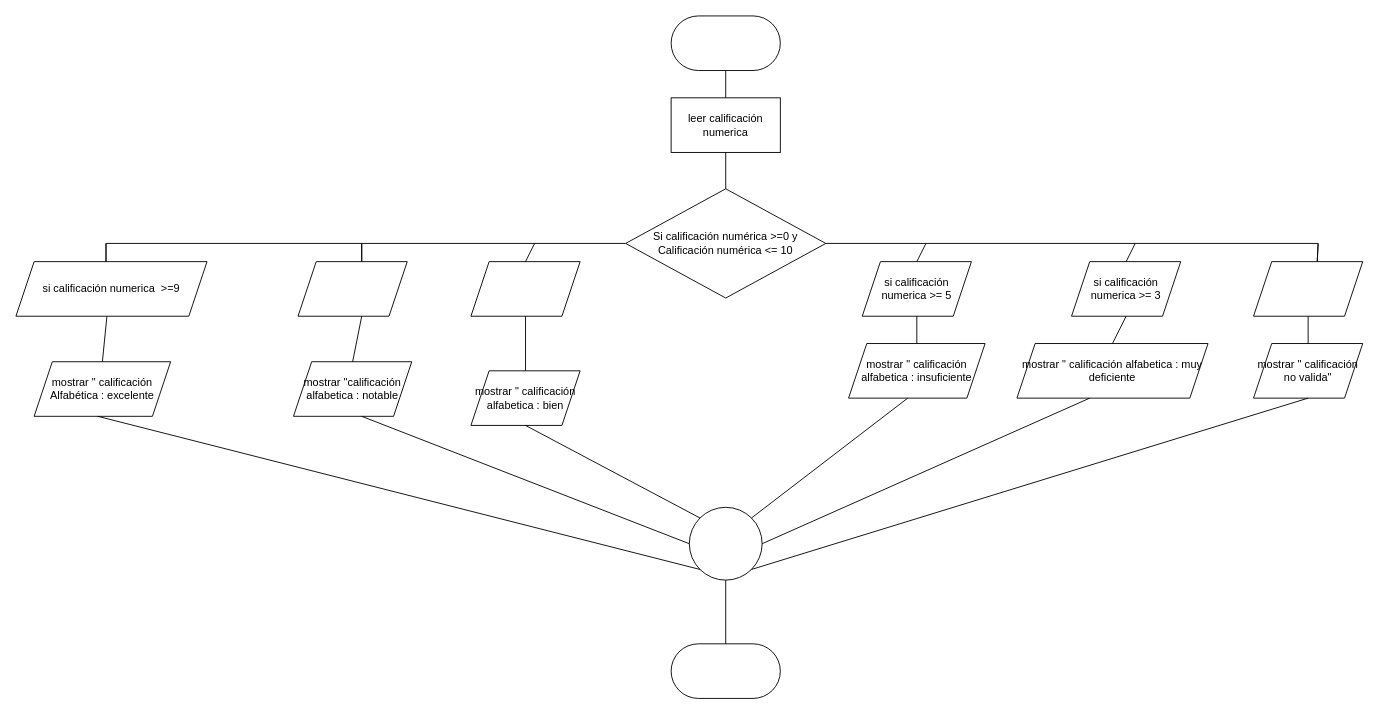
Some shapes in this 1379 by 714 pixel diagram are drawn without their labels. The centre of each missing label's shape, as x and y in pixels:
fin: point (725, 670)
inicio: point (725, 43)
si calificación numérica >= 6: point (525, 288)
si calificación numérica >= 7.5: point (352, 288)
si no: point (1308, 288)
